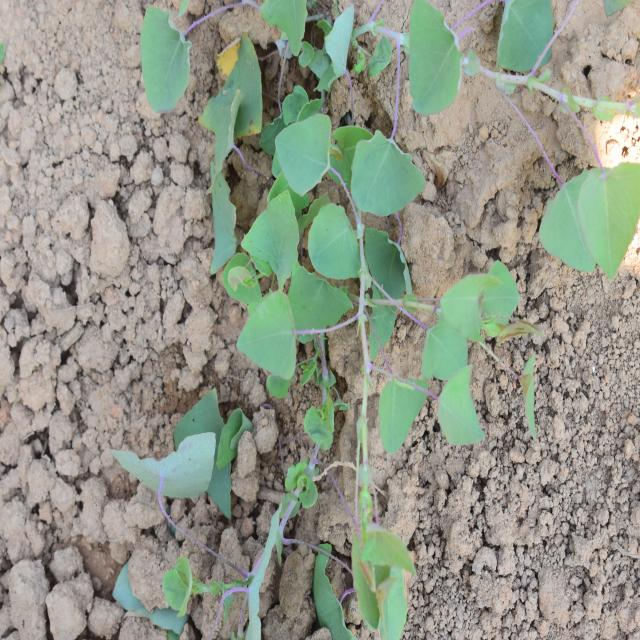Asiatic_Smartweed: (202, 88, 371, 366), (381, 227, 555, 460), (354, 0, 462, 242), (534, 144, 640, 266), (134, 9, 206, 116)
